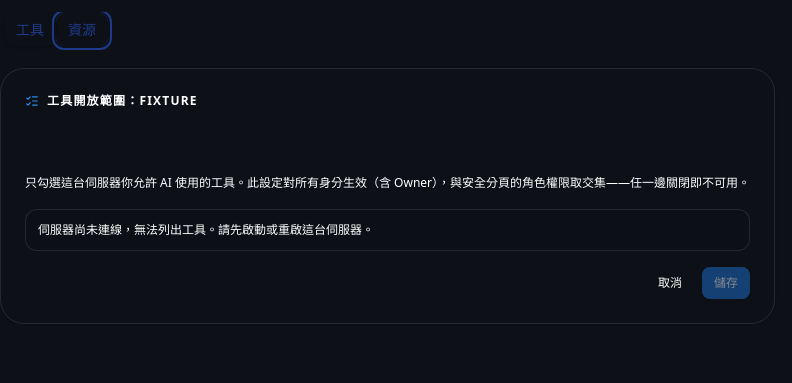
Test: McpFeatureExplorer（ADR-0203） › 只把 resource URI 當不可信識別字交給後端 POST read
Press Enter in the tab "資源", box [56, 14, 108, 46]
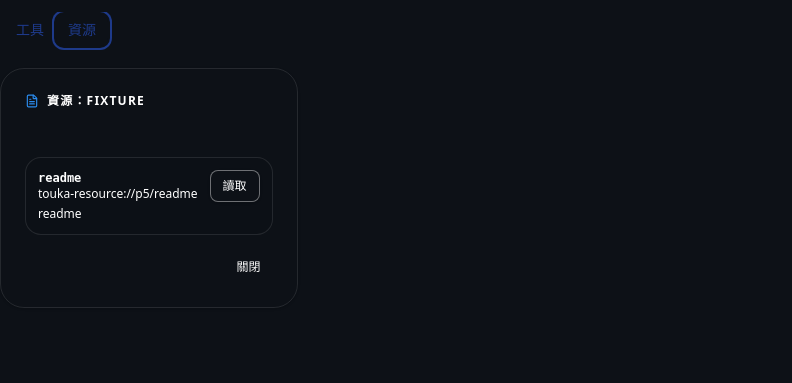
Click the button with aria-label "readme": (235,186) [210, 170, 260, 202]
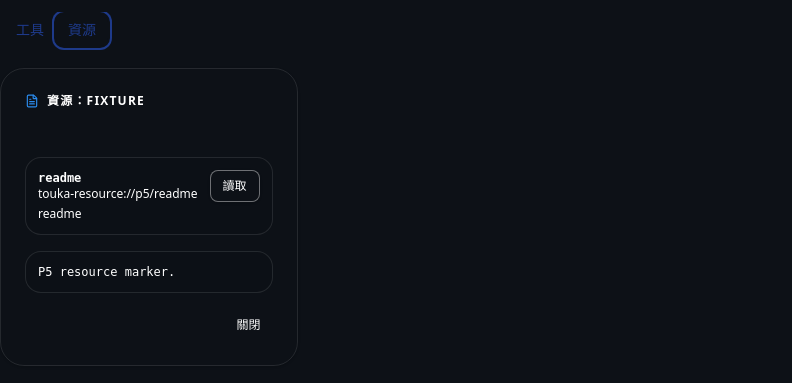
Now the text "P5 resource marker." is shown, box [38, 265, 175, 279]
